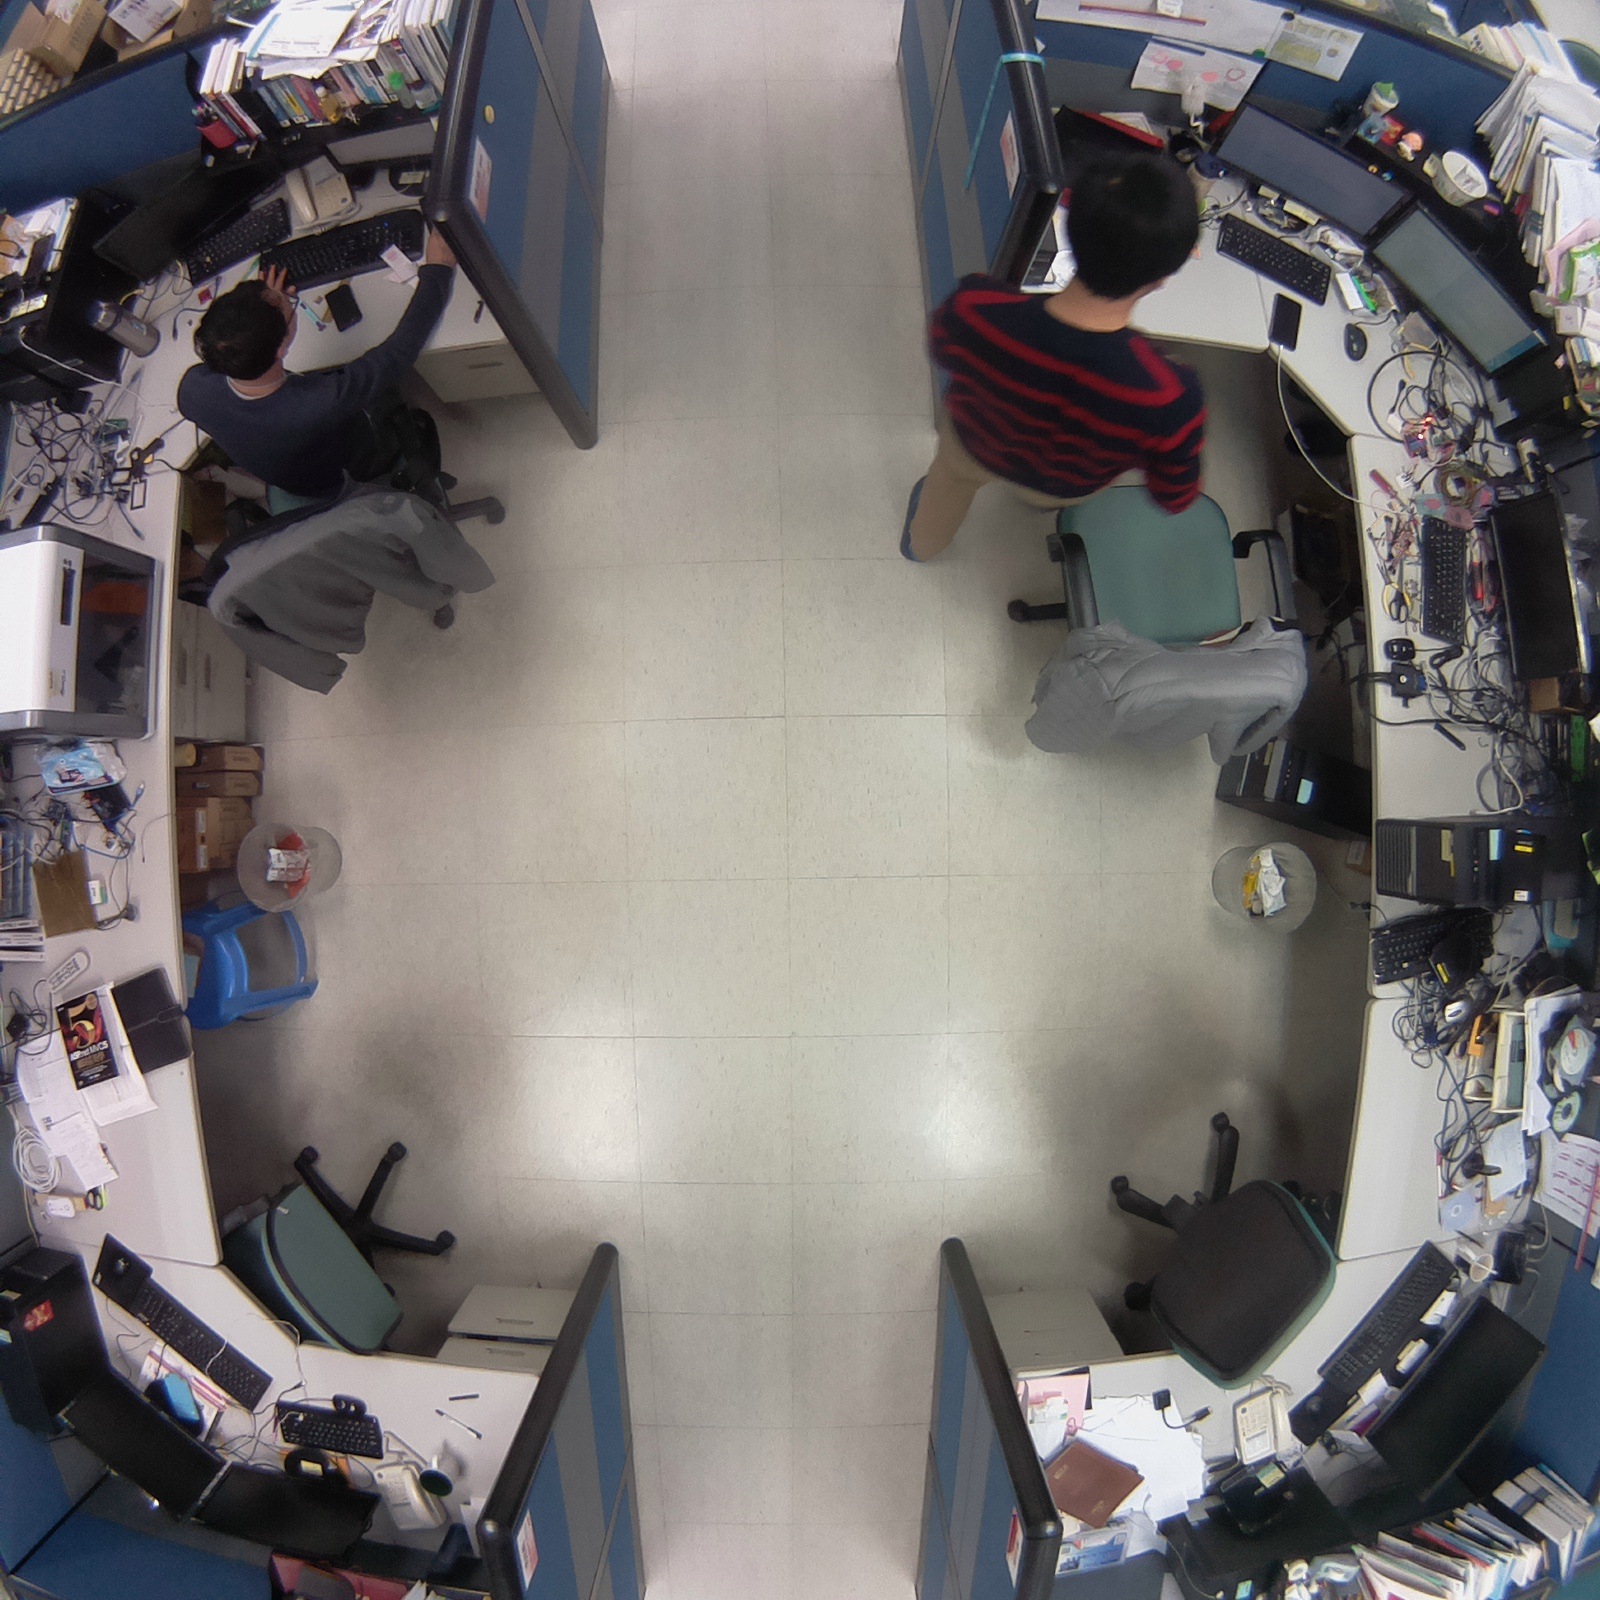chair: (1073, 1099, 1350, 1404), (206, 1117, 486, 1368)
head: (1061, 144, 1206, 302), (187, 265, 306, 380)
sitting: (175, 260, 540, 711)
standing: (886, 123, 1218, 581)
